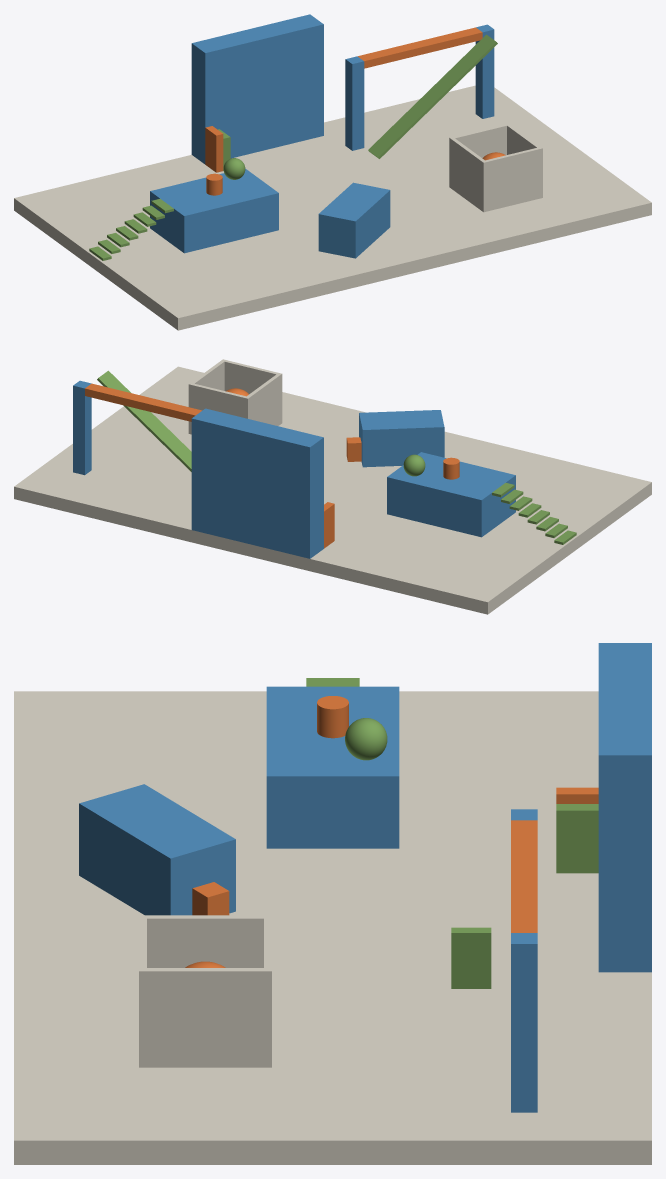
File: basics.L0.glb
The picture shows the model from 3 angles, top to bottom: view 1: azimuth 30°, elevation 25°; view 2: azimuth 150°, elevation 25°; view 3: azimuth 270°, elevation 25°; orthographic projection. The views are drawn at different scales.
Parts seen in each view (by area): view 1: floor, shelf, table, crate, turned, ramp, pillarL, beam, stairs, pillarR, book1; view 2: floor, shelf, table, crate, turned, pillarR, beam, stairs, ramp, book1, ball, sticker; view 3: floor, crate, table, shelf, turned, pillarR, beam, book2, ramp, ball, cup, sticker.
Boxes of the visible parts, left/top/right/bottom form: floor: left=14, top=85, right=651, bottom=330; shelf: left=191, top=14, right=323, bottom=164; table: left=150, top=168, right=278, bottom=253; crate: left=449, top=123, right=542, bottom=212; turned: left=318, top=182, right=390, bottom=258; ramp: left=368, top=34, right=497, bottom=158; pillarL: left=345, top=56, right=364, bottom=150; beam: left=358, top=27, right=482, bottom=68; stairs: left=89, top=198, right=173, bottom=260; pillarR: left=475, top=24, right=494, bottom=118; book1: left=205, top=126, right=223, bottom=172; floor: left=14, top=366, right=651, bottom=614; shelf: left=191, top=408, right=323, bottom=558; table: left=387, top=452, right=515, bottom=537; crate: left=188, top=359, right=282, bottom=434; turned: left=359, top=410, right=444, bottom=467; pillarR: left=73, top=380, right=91, bottom=475; beam: left=85, top=383, right=201, bottom=421; stairs: left=492, top=483, right=576, bottom=544; ramp: left=97, top=370, right=191, bottom=471; book1: left=324, top=502, right=334, bottom=548; ball: left=403, top=454, right=425, bottom=476; sticker: left=346, top=437, right=361, bottom=461; floor: left=14, top=691, right=651, bottom=1164; crate: left=139, top=915, right=271, bottom=1067; table: left=266, top=686, right=399, bottom=848; shelf: left=598, top=643, right=651, bottom=972; turned: left=79, top=784, right=235, bottom=915; pillarR: left=511, top=933, right=537, bottom=1112; beam: left=511, top=820, right=537, bottom=932; book2: left=556, top=804, right=598, bottom=873; ramp: left=451, top=927, right=491, bottom=988; ball: left=345, top=718, right=387, bottom=760; cup: left=317, top=696, right=348, bottom=738; sticker: left=192, top=882, right=229, bottom=915.
Size of the model in its own units: 40 by 10 by 24.
